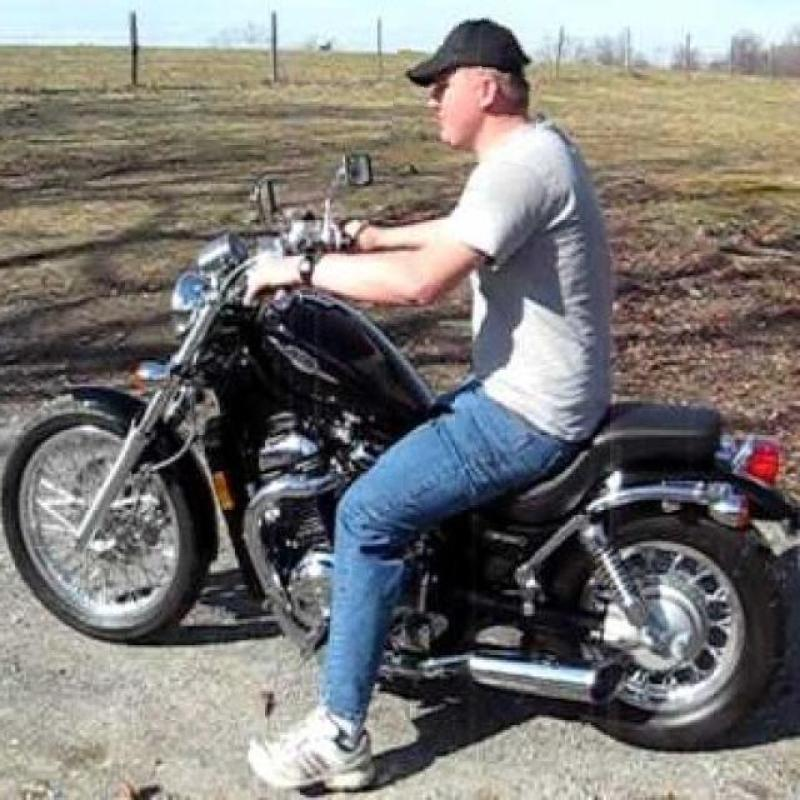nohelmet: (392, 0, 541, 163)
